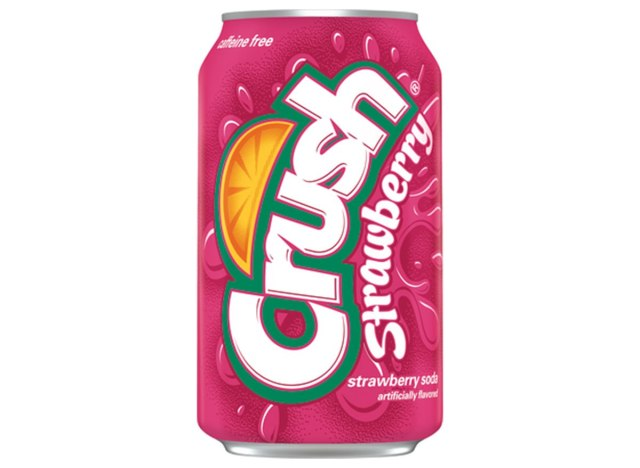can: (197, 9, 445, 457)
